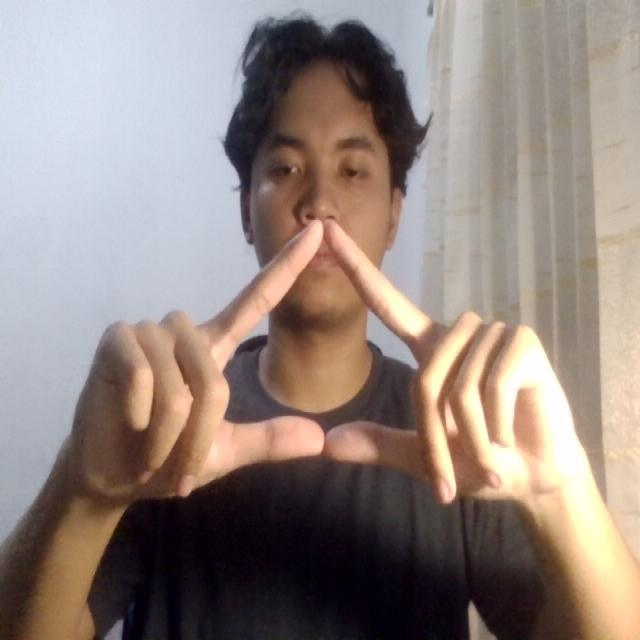A: (54, 205, 593, 527)
